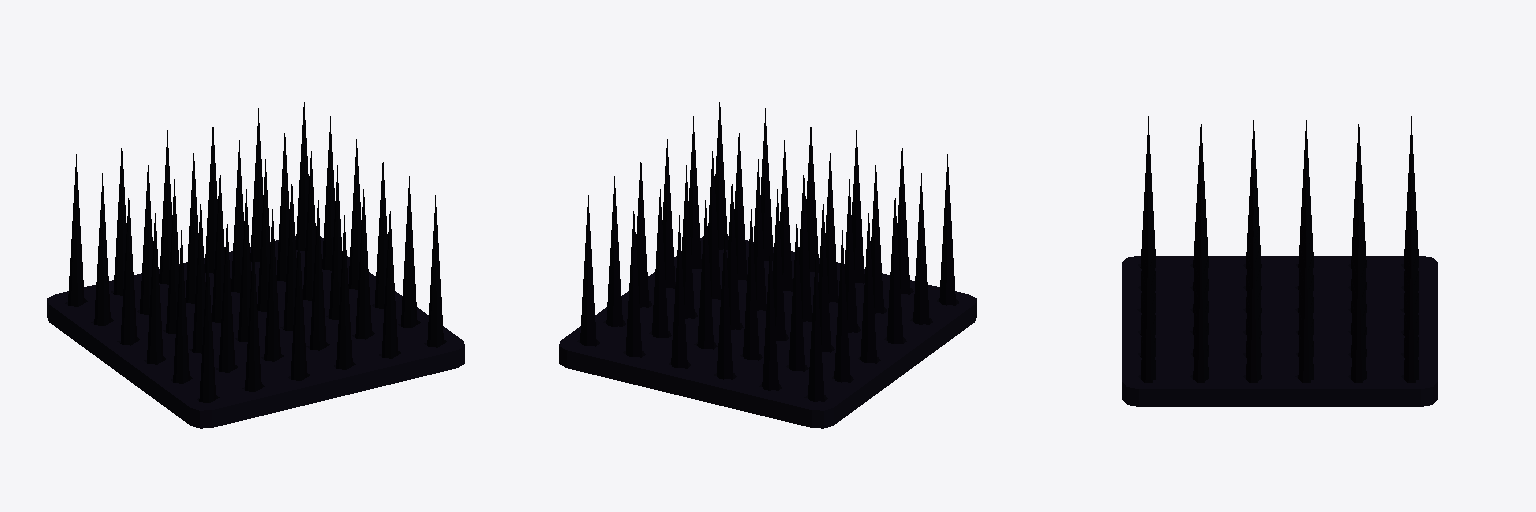
The model's file is Trap_spikes.obj.
The picture shows the model from 3 angles: view 1: azimuth 30°, elevation 25°; view 2: azimuth 150°, elevation 25°; view 3: azimuth 270°, elevation 25°; orthographic projection.
Parts seen in each view (by area): view 1: Trap_spikes_Cube.051; view 2: Trap_spikes_Cube.051; view 3: Trap_spikes_Cube.051.
Part boxes in pixels (left/top/right/bottom): Trap_spikes_Cube.051: left=47, top=102, right=464, bottom=428; Trap_spikes_Cube.051: left=559, top=102, right=976, bottom=428; Trap_spikes_Cube.051: left=1122, top=116, right=1437, bottom=406.
Bounding box in the file's own units: 1.99 × 1.17 × 1.99.